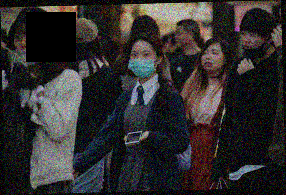mask_weared_incorrect: (12, 29, 43, 67), (240, 30, 264, 61)
with_mask: (126, 48, 157, 79)
without_mask: (199, 47, 223, 75), (173, 27, 188, 48)
